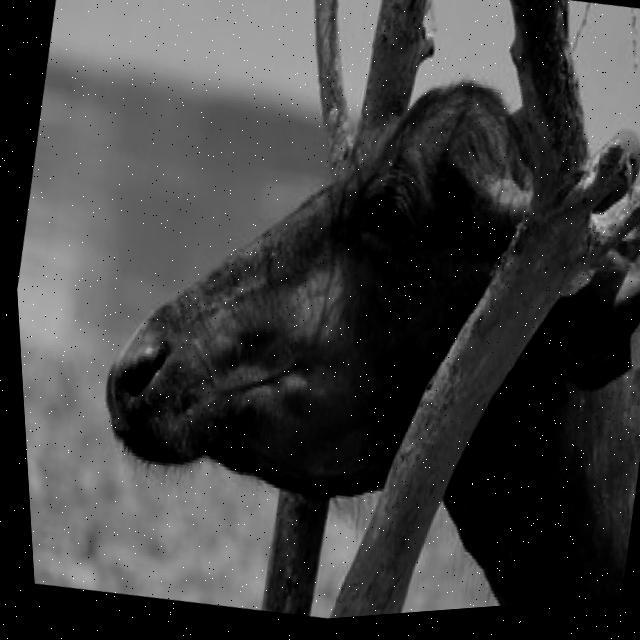Buffalo: (49, 4, 640, 637)
